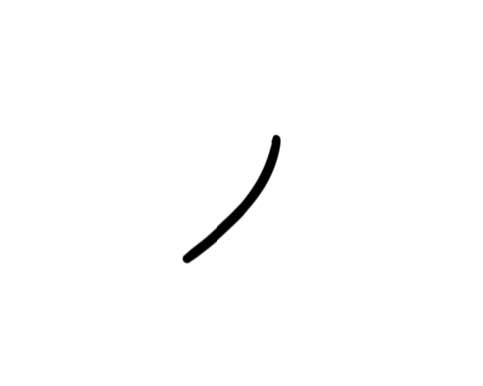no: (173, 130, 284, 268)
